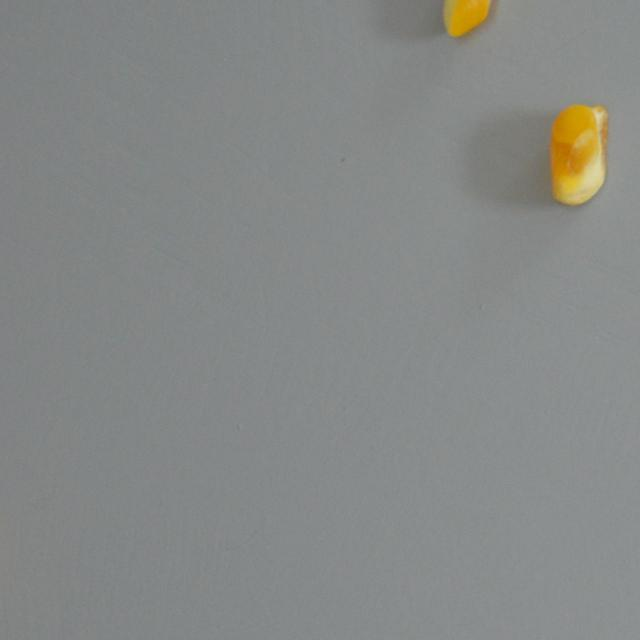estandar: (442, 0, 499, 38)
pelicula: (548, 103, 608, 206)
